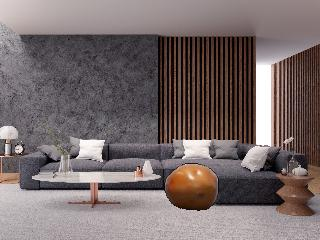potato: (163, 161, 222, 213)
